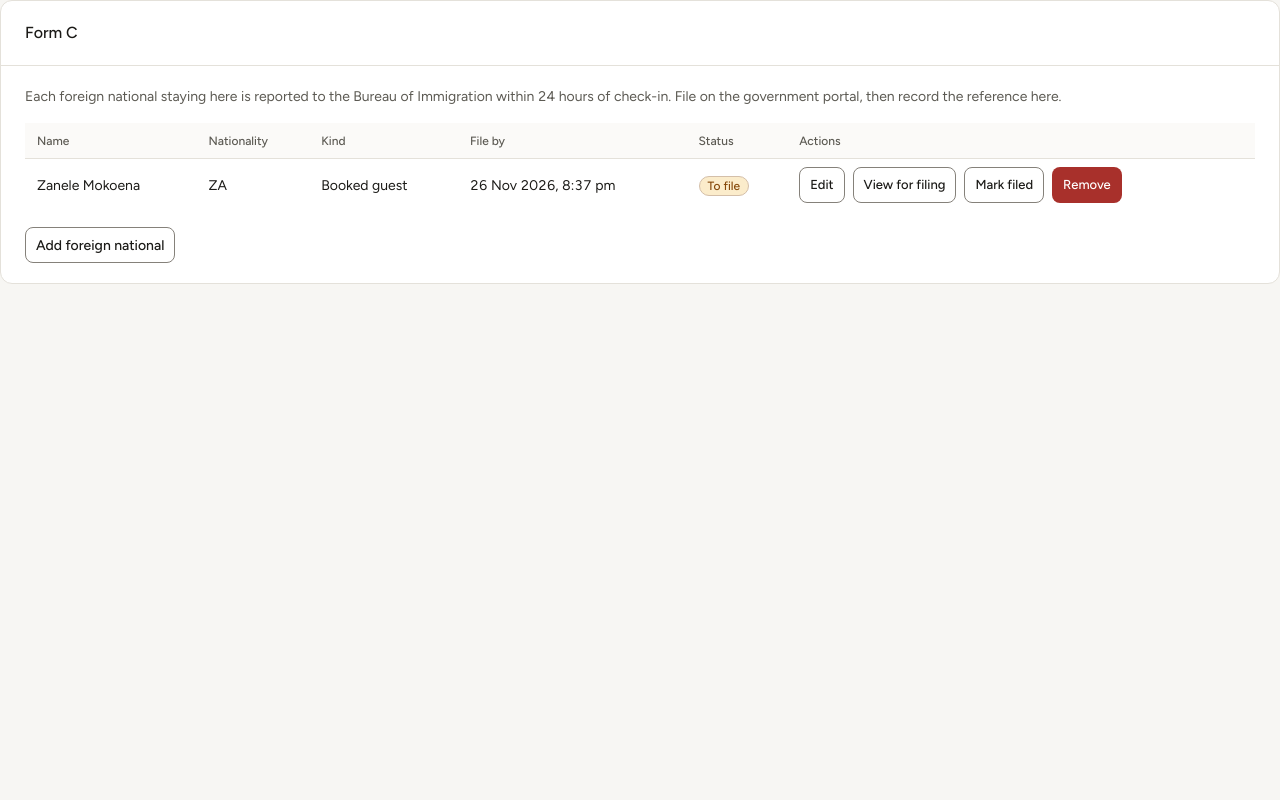
Test: Form C panel on the stay card › Mark filed asks for the portal reference and refreshes the stay and the register
Click the button with test id "form-c-filed-fcb_res_1".
click(1004, 185)  # box [964,167,1044,203]
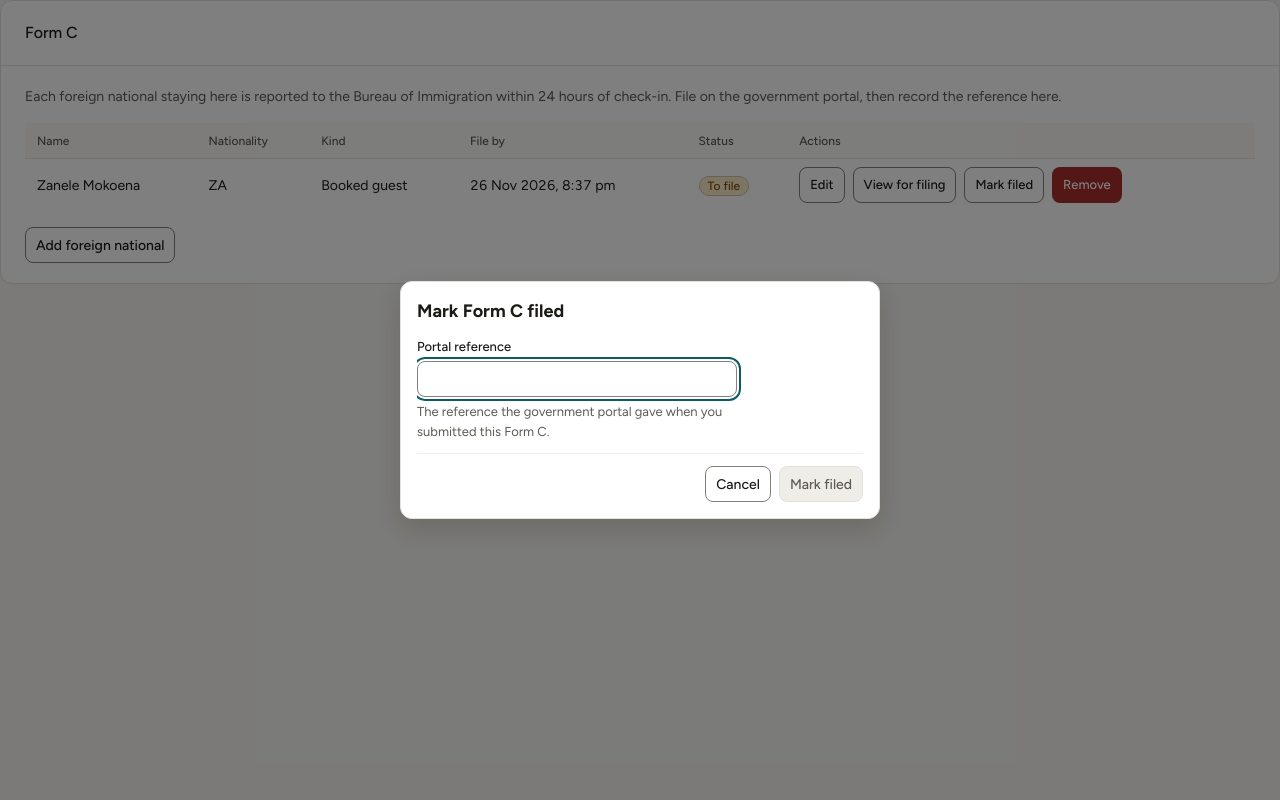
Result: the button with test id "form-c-filed-confirm" is disabled at [779,466,863,502]
Type "-bad!" into the field with test id "form-c-reference".
click(577, 379); type("-bad!")  # box [417,361,737,397]
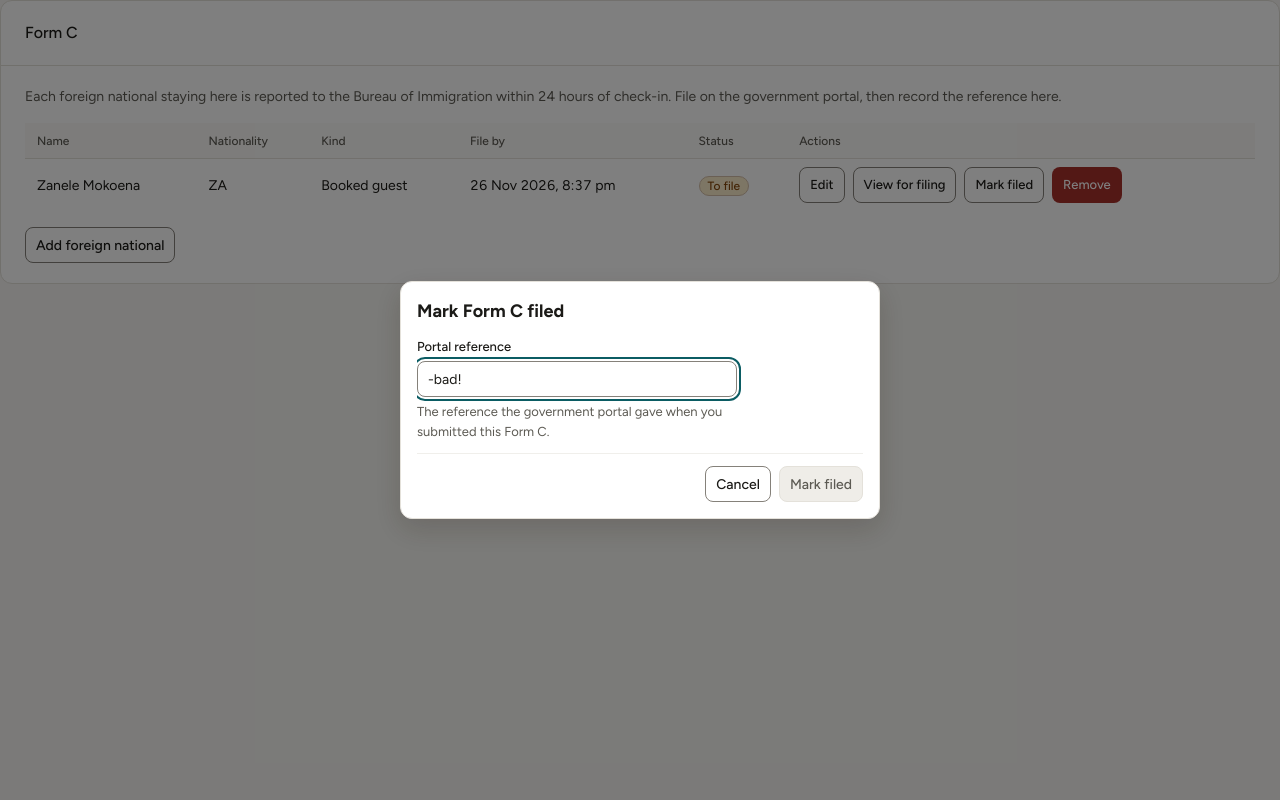
Result: the button with test id "form-c-filed-confirm" is disabled at [779,466,863,502]
Replace the text in the field with test id "form-c-reference" with "FC/2026-11 0042" at x=577, y=379, box [417,361,737,397]
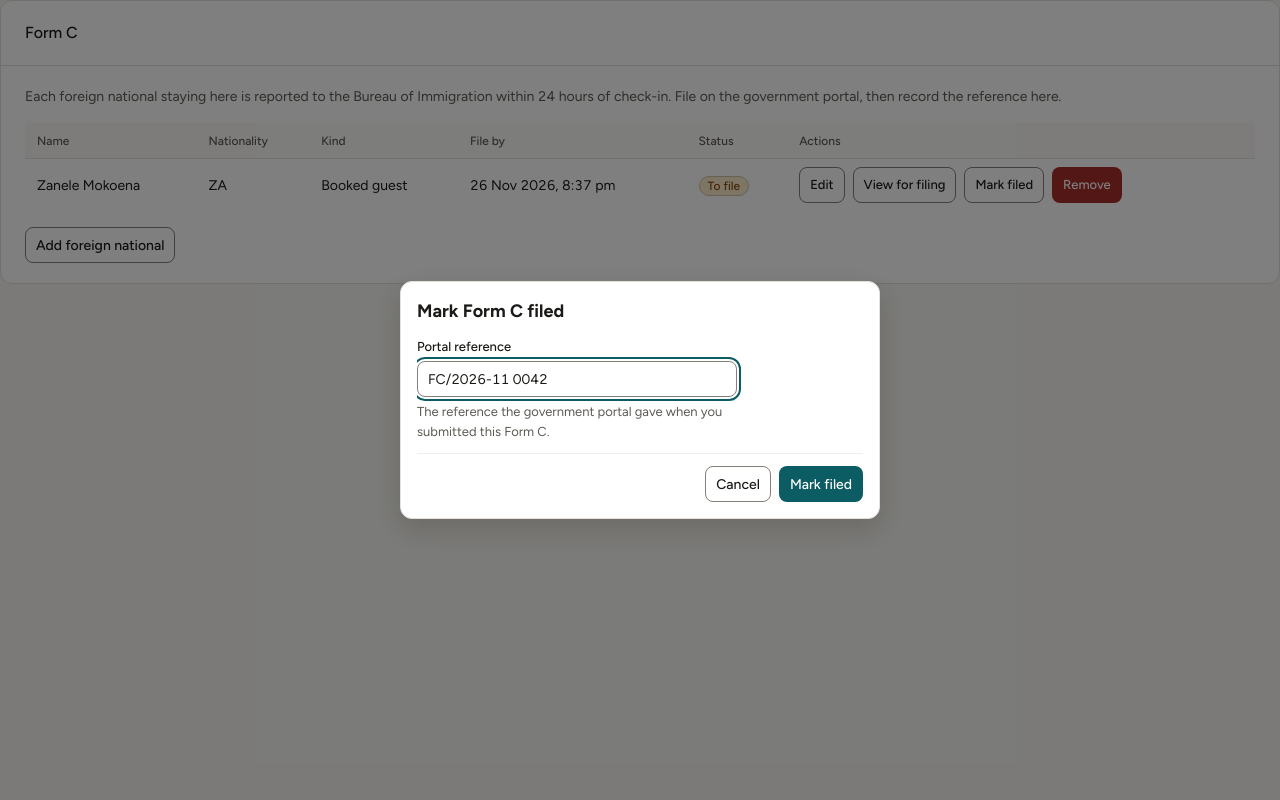
Result: the button with test id "form-c-filed-confirm" is enabled
Click the button with test id "form-c-filed-confirm".
click(821, 484)  # box [779,466,863,502]
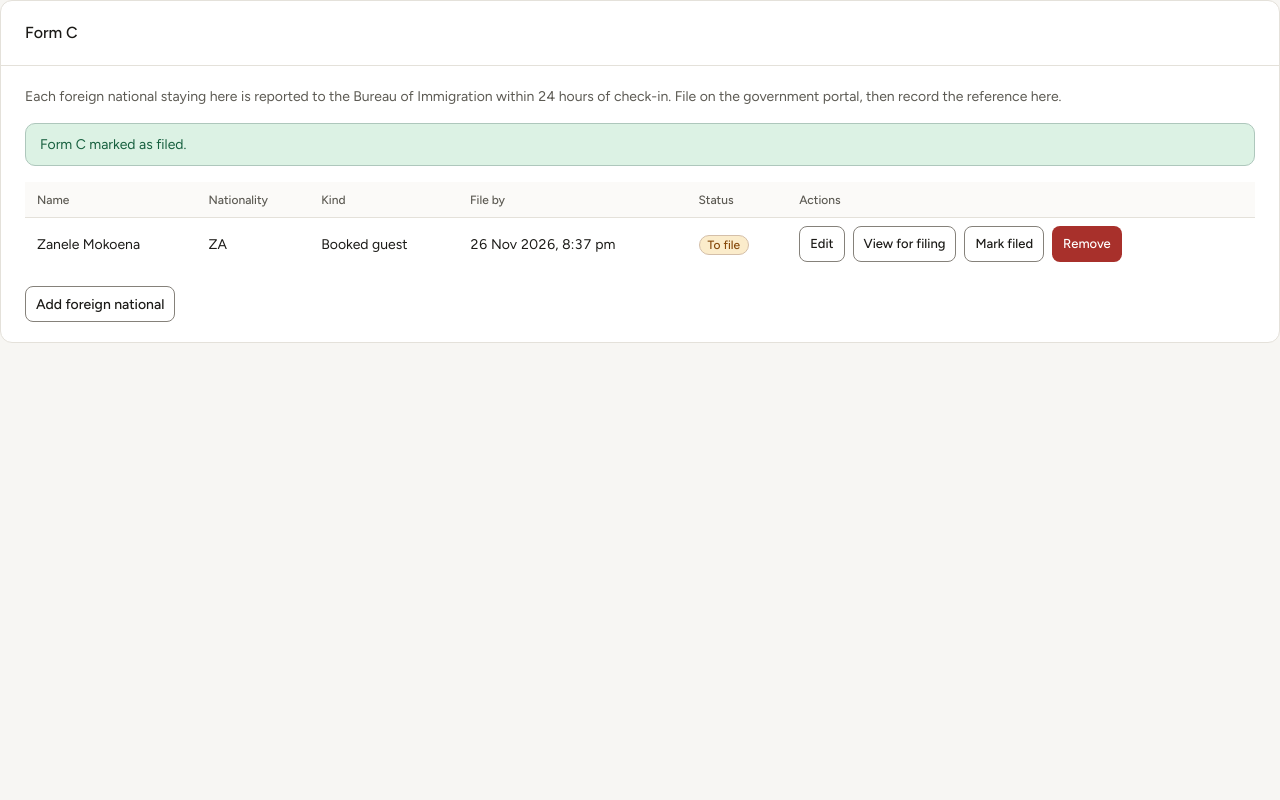
Result: the text "Form C marked as filed." is shown at [25,123,1255,166]
